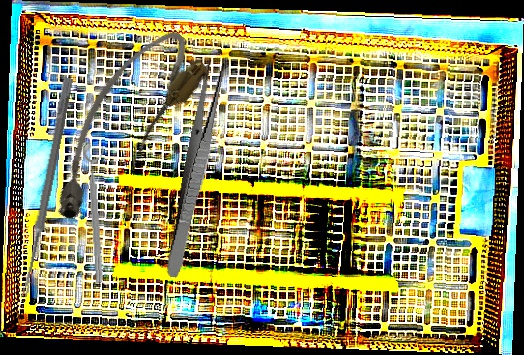Cannula: (23, 17, 217, 233)
Dressing Forceps: (163, 57, 229, 280)
Fixation Ring: (82, 142, 115, 284)
Surgical Spoon: (19, 76, 74, 299)
